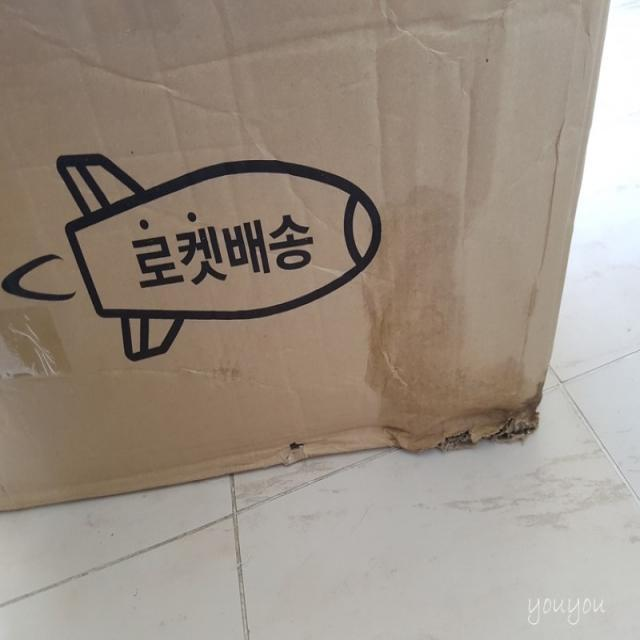wet: (371, 203, 541, 445)
